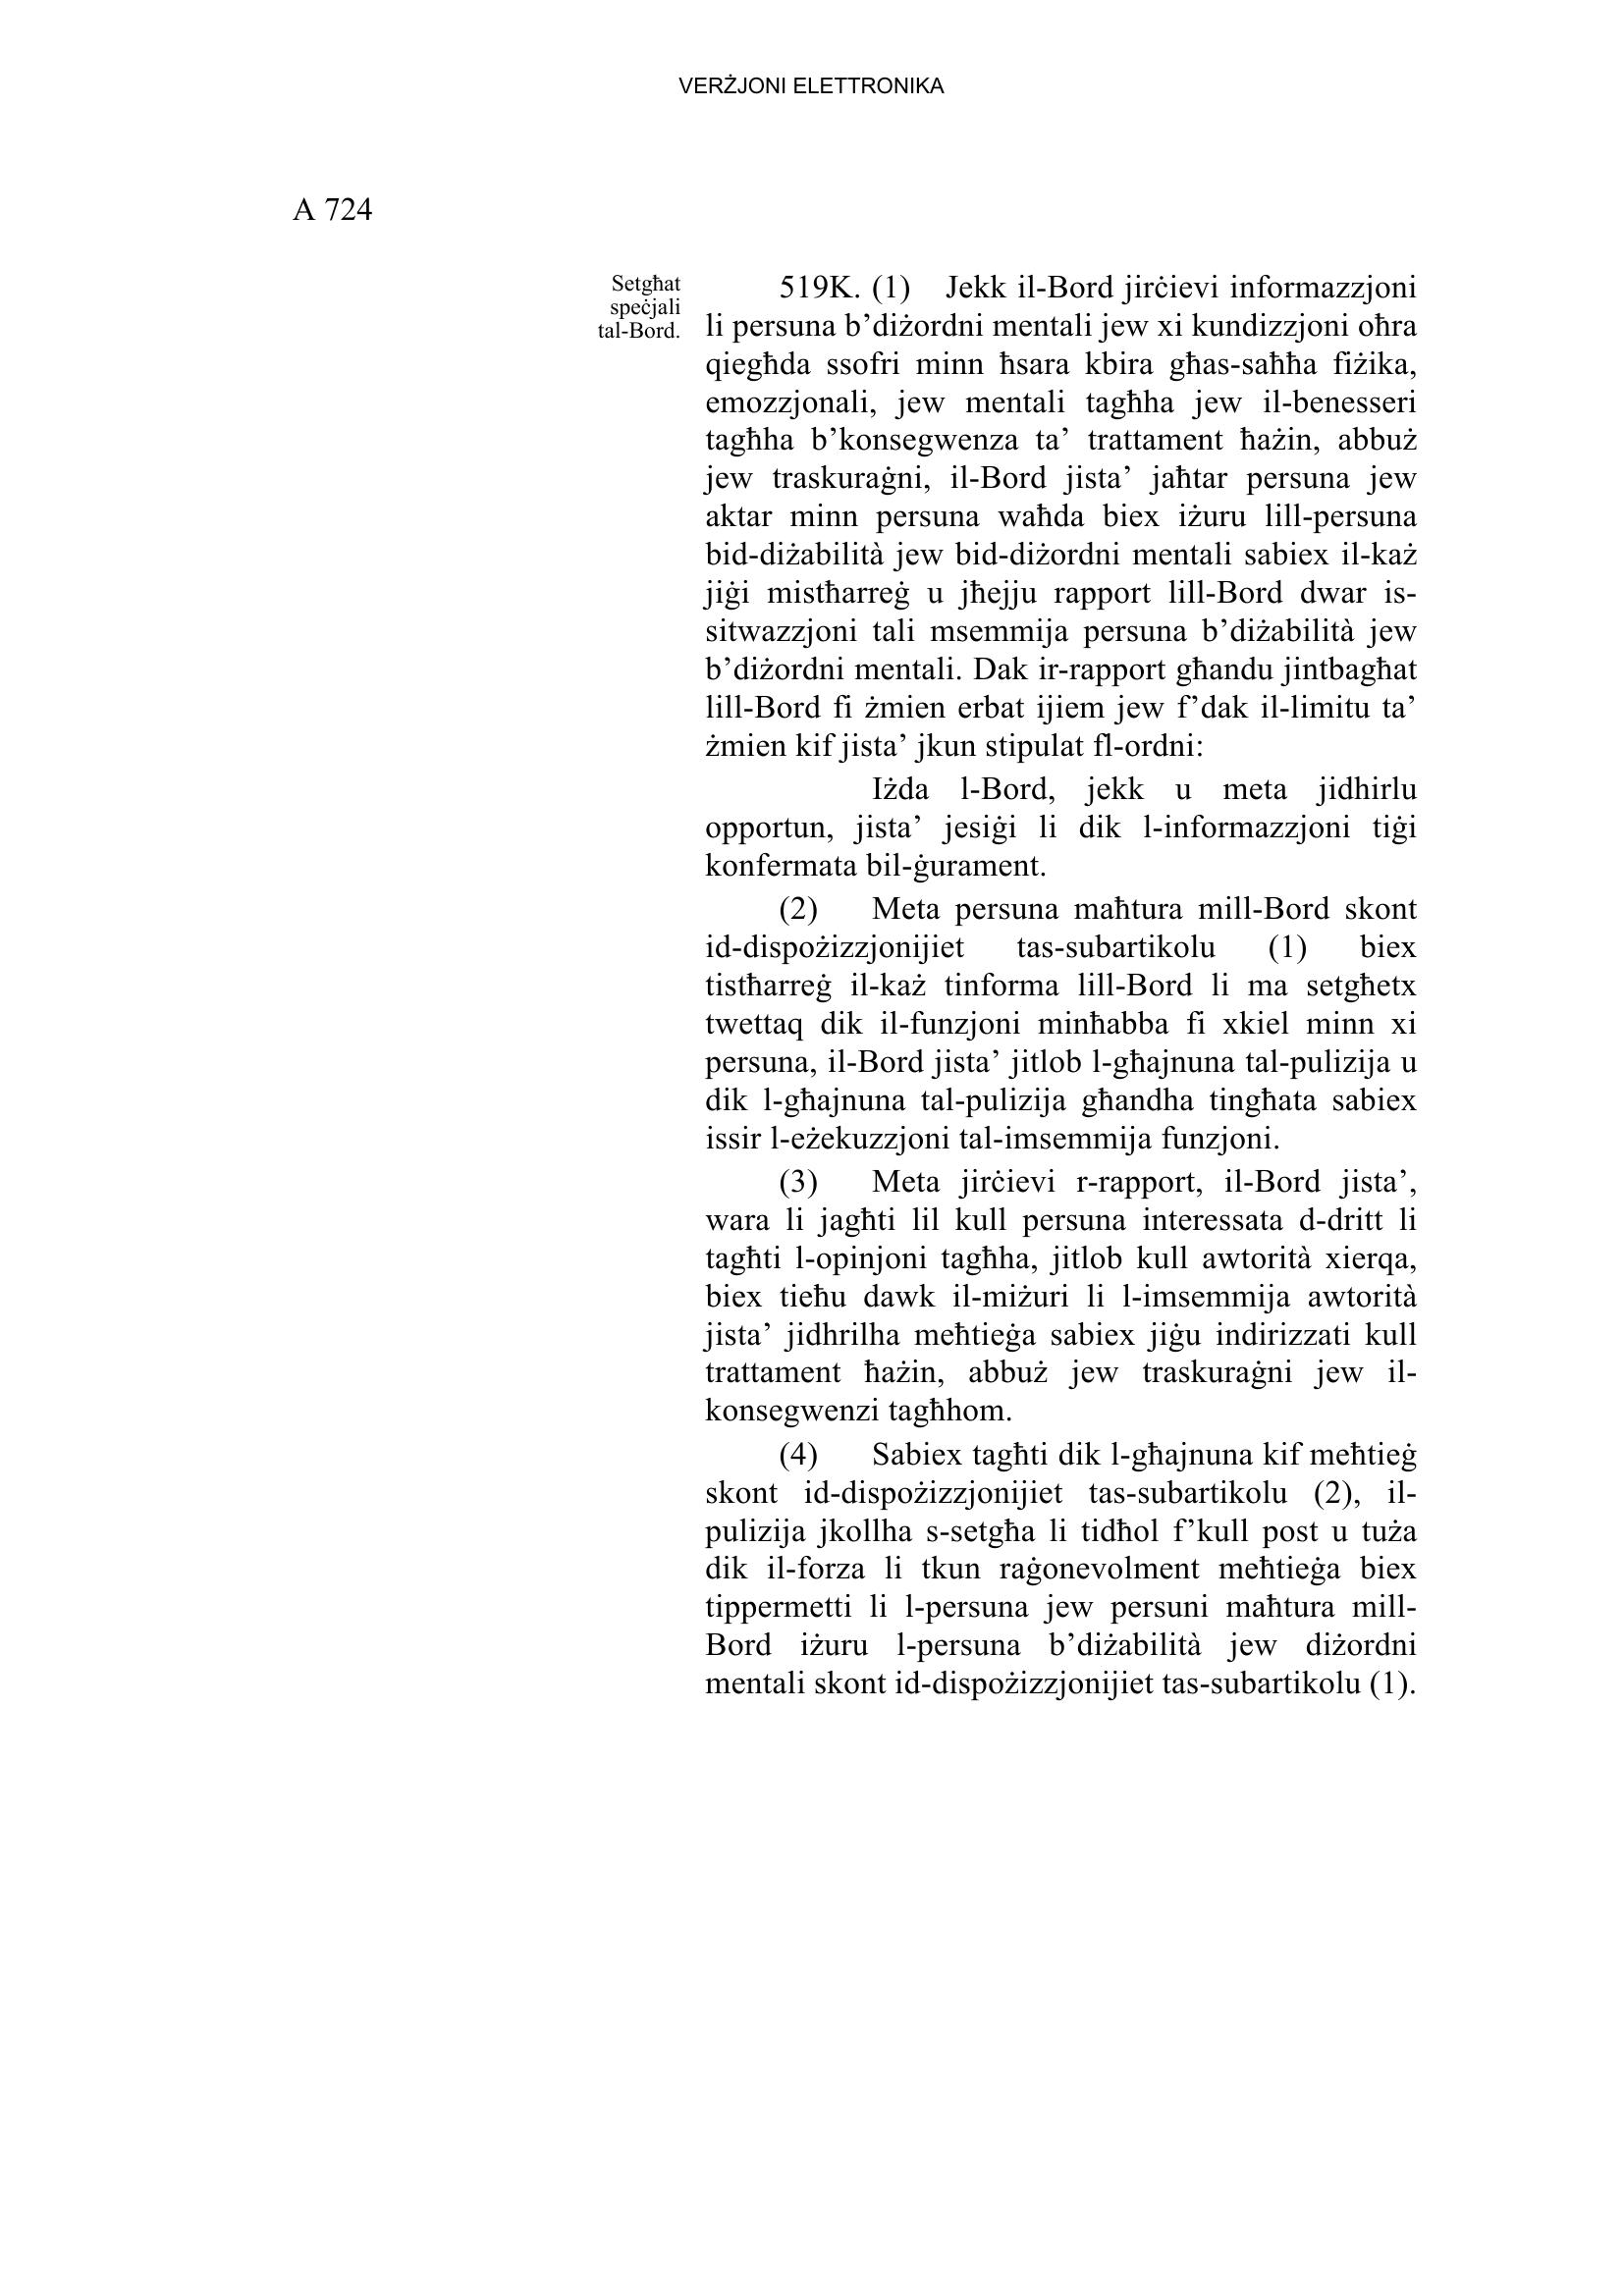text: (696, 262, 1436, 1720)
